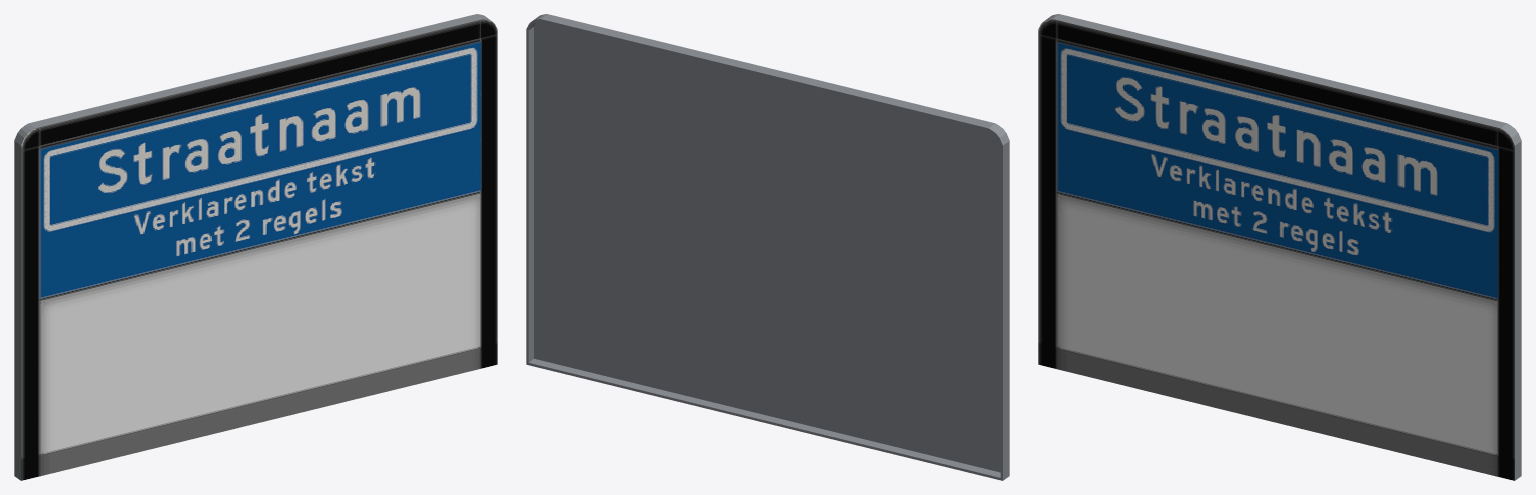
3 views of the same model, side by side, from view 1: azimuth 30°, elevation 25°; view 2: azimuth 150°, elevation 25°; view 3: azimuth 330°, elevation 25° (orthographic).
Visible parts, largest first — view 1: cat_038f630c2aad2c07; view 2: cat_038f630c2aad2c07; view 3: cat_038f630c2aad2c07.
Part boxes in pixels (x1,y1,x2,y2): cat_038f630c2aad2c07: [14, 14, 497, 480]; cat_038f630c2aad2c07: [526, 14, 1009, 480]; cat_038f630c2aad2c07: [1038, 14, 1521, 480].
Size of the model in its own units: 0.6 by 0.015 by 0.4199.
Materials: 2 (1 with a texture image).
